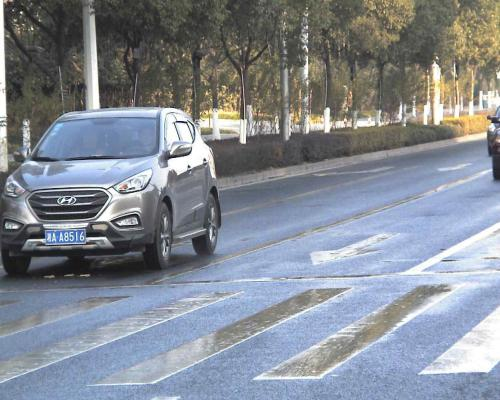Carplate: (41, 223, 89, 248)
